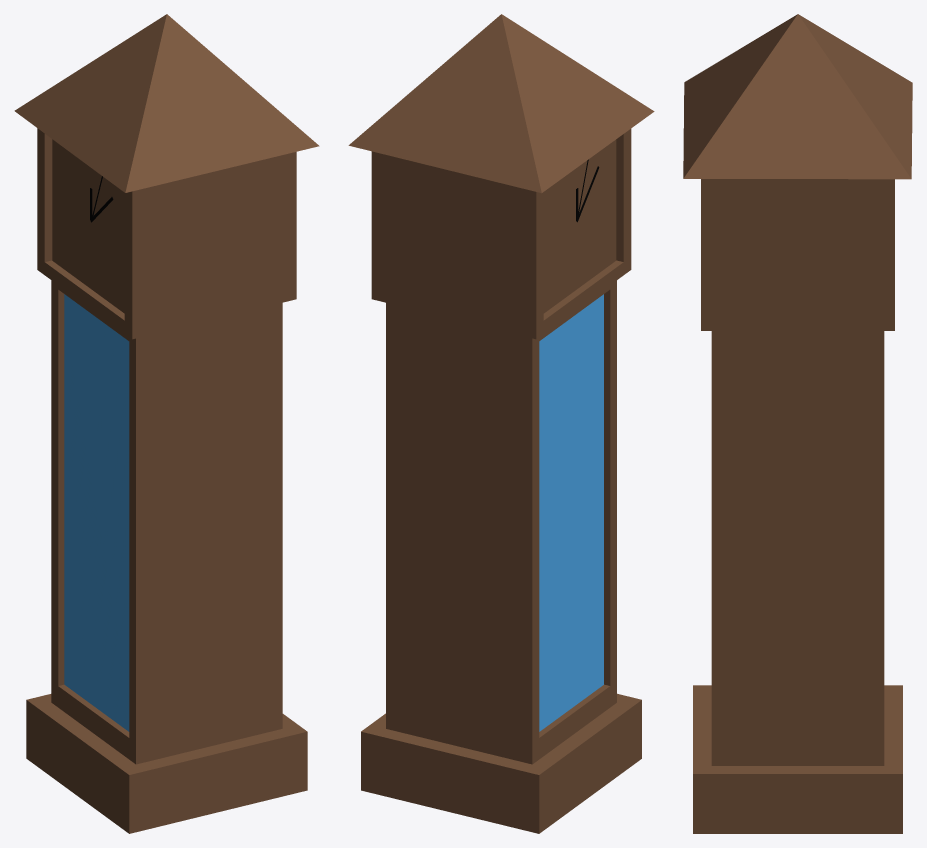
File: Reloj.fbx
The picture shows the model from 3 angles, left to right: view 1: azimuth 30°, elevation 25°; view 2: azimuth 150°, elevation 25°; view 3: azimuth 270°, elevation 25°; orthographic projection.
Visible parts, largest first — view 1: Cube.001, Cube.006, Cone, Plane, Cube, Cube.002; view 2: Cube.001, Cube.006, Cone, Plane, Cube, Cube.002; view 3: Cube.001, Cone, Cube.006, Cube.
Boxes of the visible parts, left/top/right/bottom form: Cube.001: left=51, top=280, right=282, bottom=764; Cube.006: left=37, top=128, right=296, bottom=339; Cone: left=14, top=14, right=319, bottom=192; Plane: left=64, top=294, right=129, bottom=731; Cube: left=26, top=694, right=307, bottom=833; Cube.002: left=52, top=139, right=124, bottom=313; Cube.001: left=386, top=280, right=616, bottom=764; Cube.006: left=371, top=129, right=631, bottom=339; Cone: left=348, top=14, right=654, bottom=193; Plane: left=539, top=294, right=603, bottom=731; Cube: left=361, top=693, right=641, bottom=833; Cube.002: left=543, top=139, right=616, bottom=313; Cube.001: left=711, top=331, right=884, bottom=765; Cone: left=683, top=14, right=912, bottom=179; Cube.006: left=701, top=179, right=894, bottom=330; Cube: left=693, top=685, right=902, bottom=833.
Size of the model in its own units: 85.55 by 319 by 85.55.
